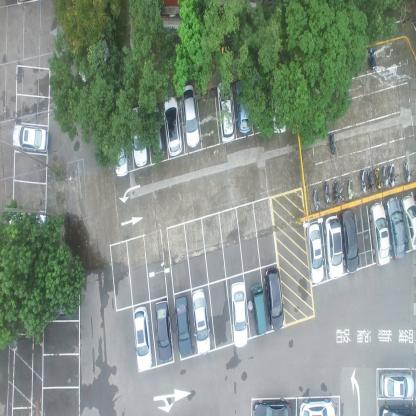car: (79, 35, 111, 82), (385, 197, 407, 261), (369, 201, 390, 267), (264, 265, 284, 332), (191, 289, 211, 355), (324, 214, 344, 279), (180, 83, 199, 149), (133, 305, 152, 371), (230, 280, 248, 347), (162, 96, 182, 156), (216, 80, 235, 143), (340, 209, 358, 274), (155, 299, 173, 363), (11, 124, 49, 154), (269, 73, 287, 135), (306, 224, 324, 284), (379, 368, 415, 398), (9, 210, 48, 237), (130, 106, 147, 167), (175, 296, 192, 356), (114, 118, 130, 178), (400, 193, 416, 252), (149, 102, 165, 159), (250, 283, 267, 335), (236, 78, 251, 133), (252, 398, 292, 416), (298, 398, 336, 416), (380, 403, 416, 415)
